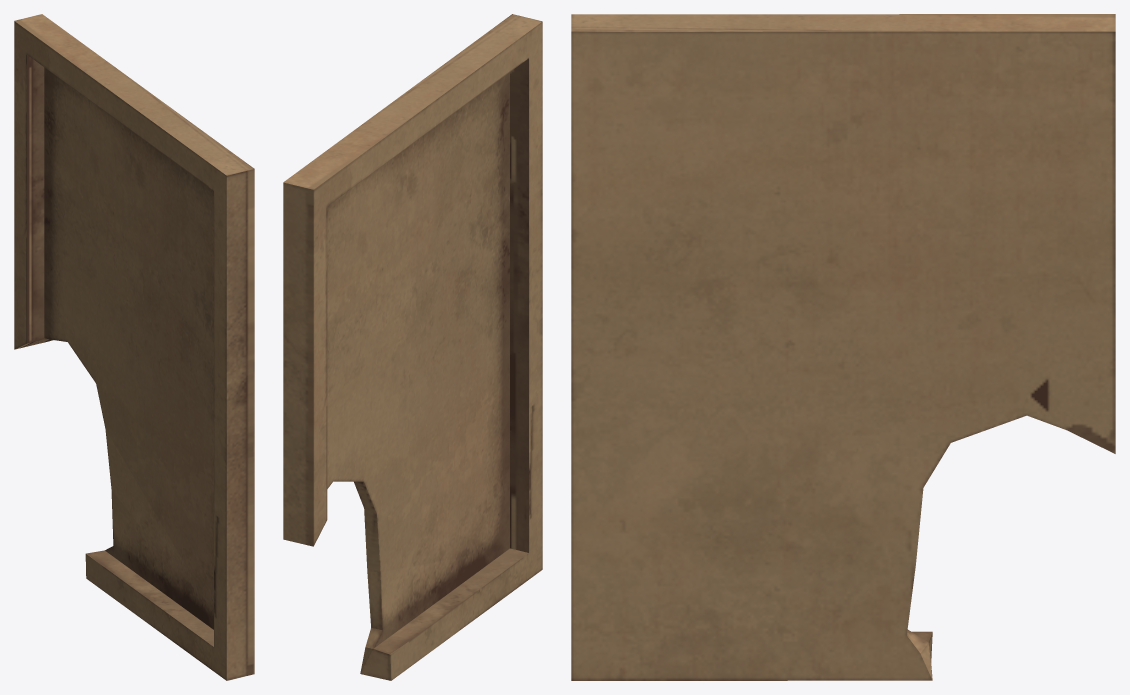
The model's file is Puzzle 1 Tablet .fbx.
3 renders of one model, left to right at view 1: azimuth 30°, elevation 25°; view 2: azimuth 150°, elevation 25°; view 3: azimuth 270°, elevation 25°, orthographic. The views are drawn at different scales.
Visible parts, largest first — view 1: Cube.011; view 2: Cube.011; view 3: Cube.011.
Part boxes in pixels (x1=…): Cube.011: x1=14, y1=14, x2=254, y2=680; Cube.011: x1=283, y1=14, x2=542, y2=680; Cube.011: x1=571, y1=14, x2=1115, y2=680.
Size of the model in its own units: 42.71 by 719 by 546.
Materials: 1 (1 with a texture image).
